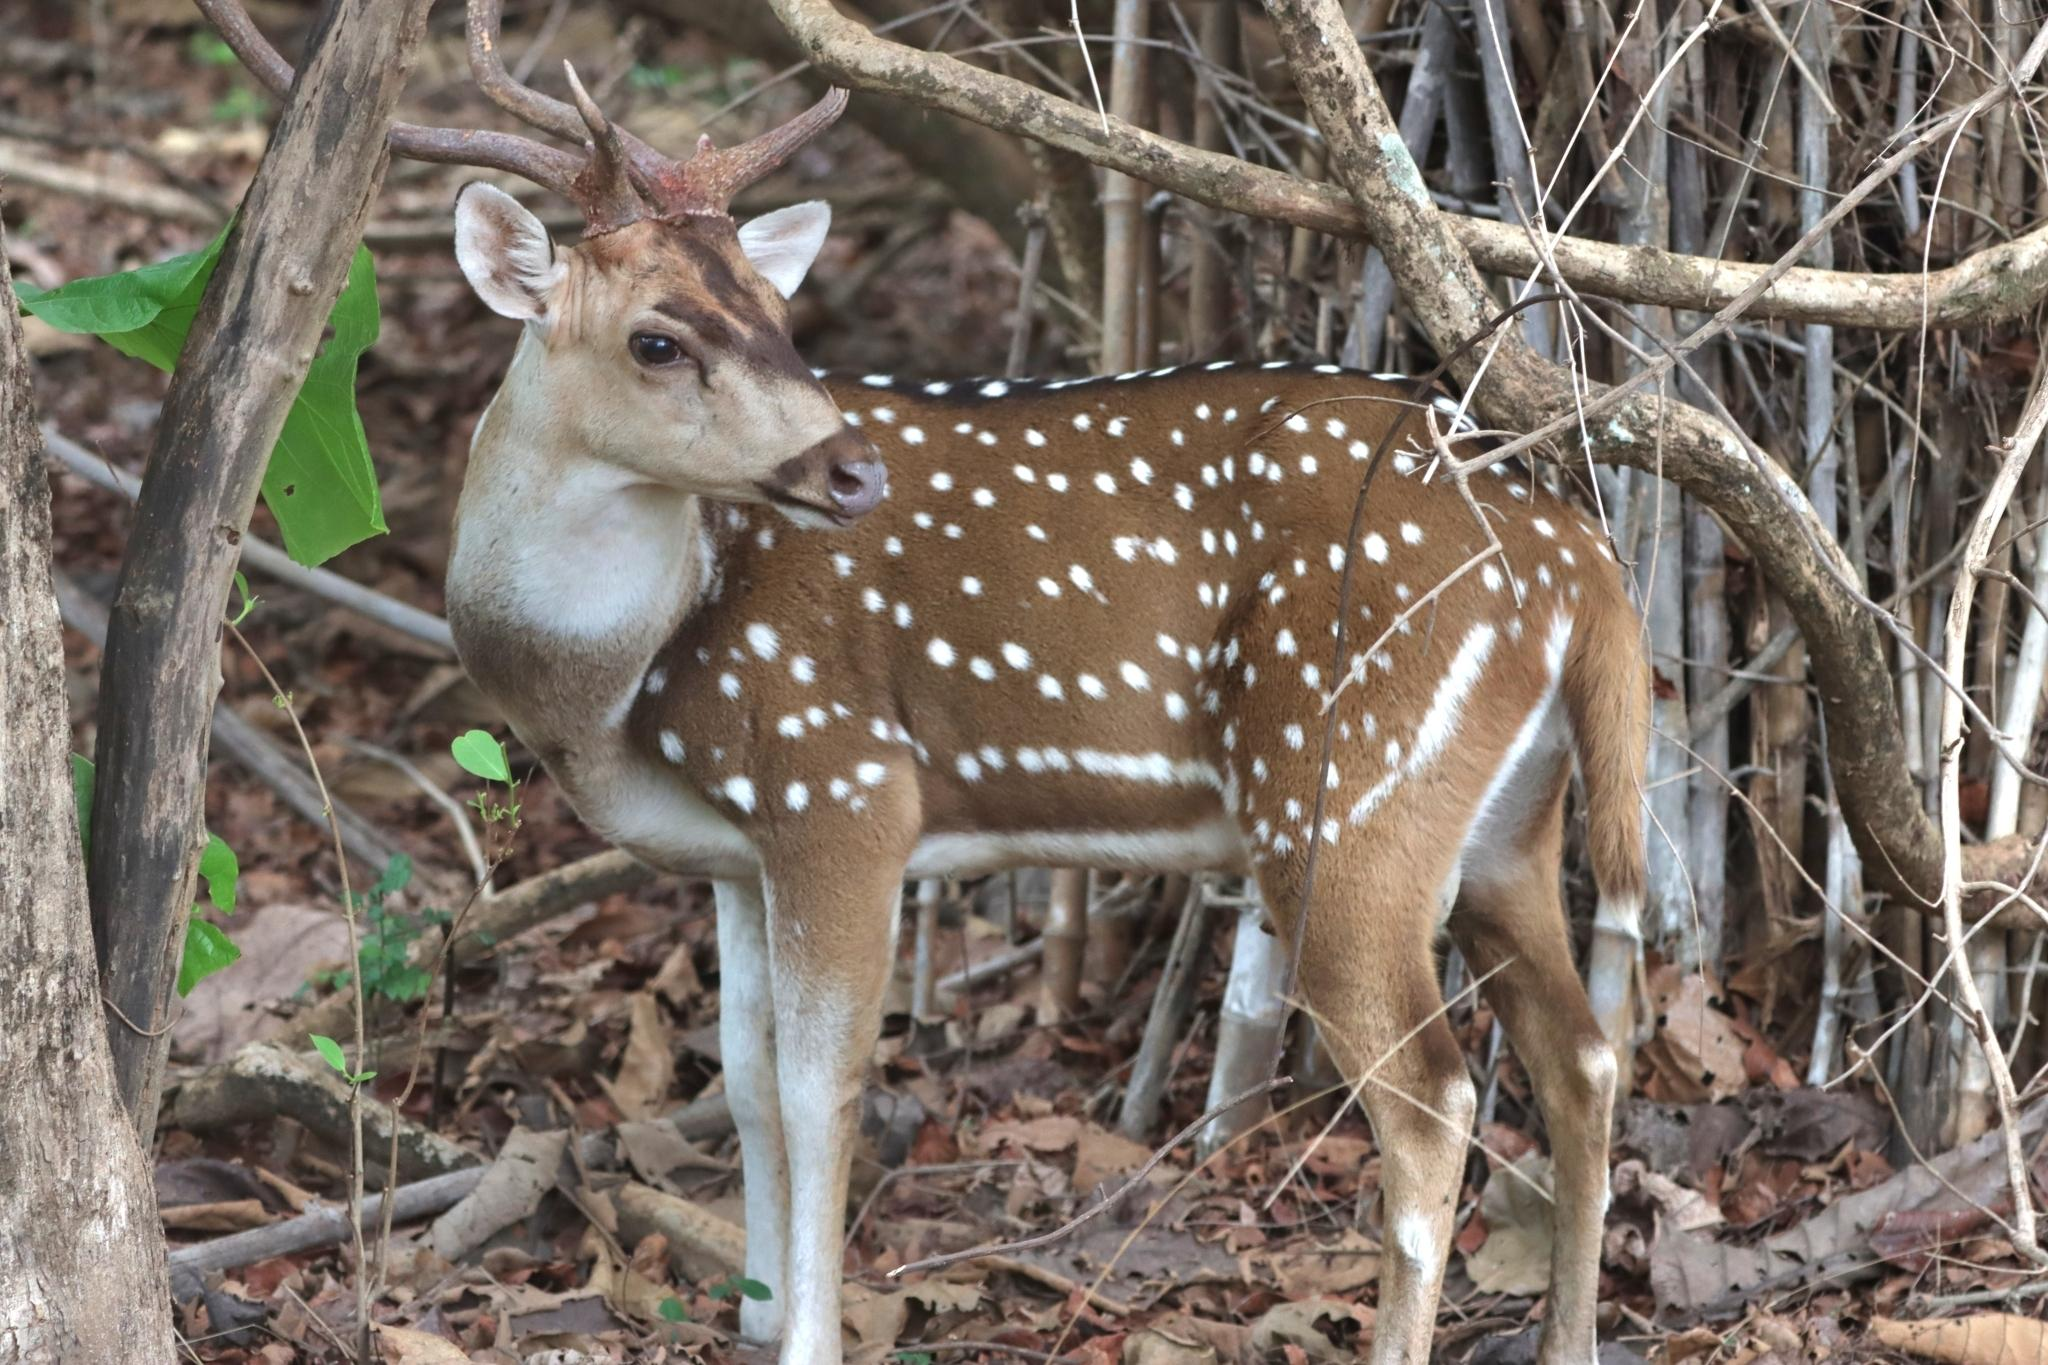Deer: (448, 139, 1648, 1360)
